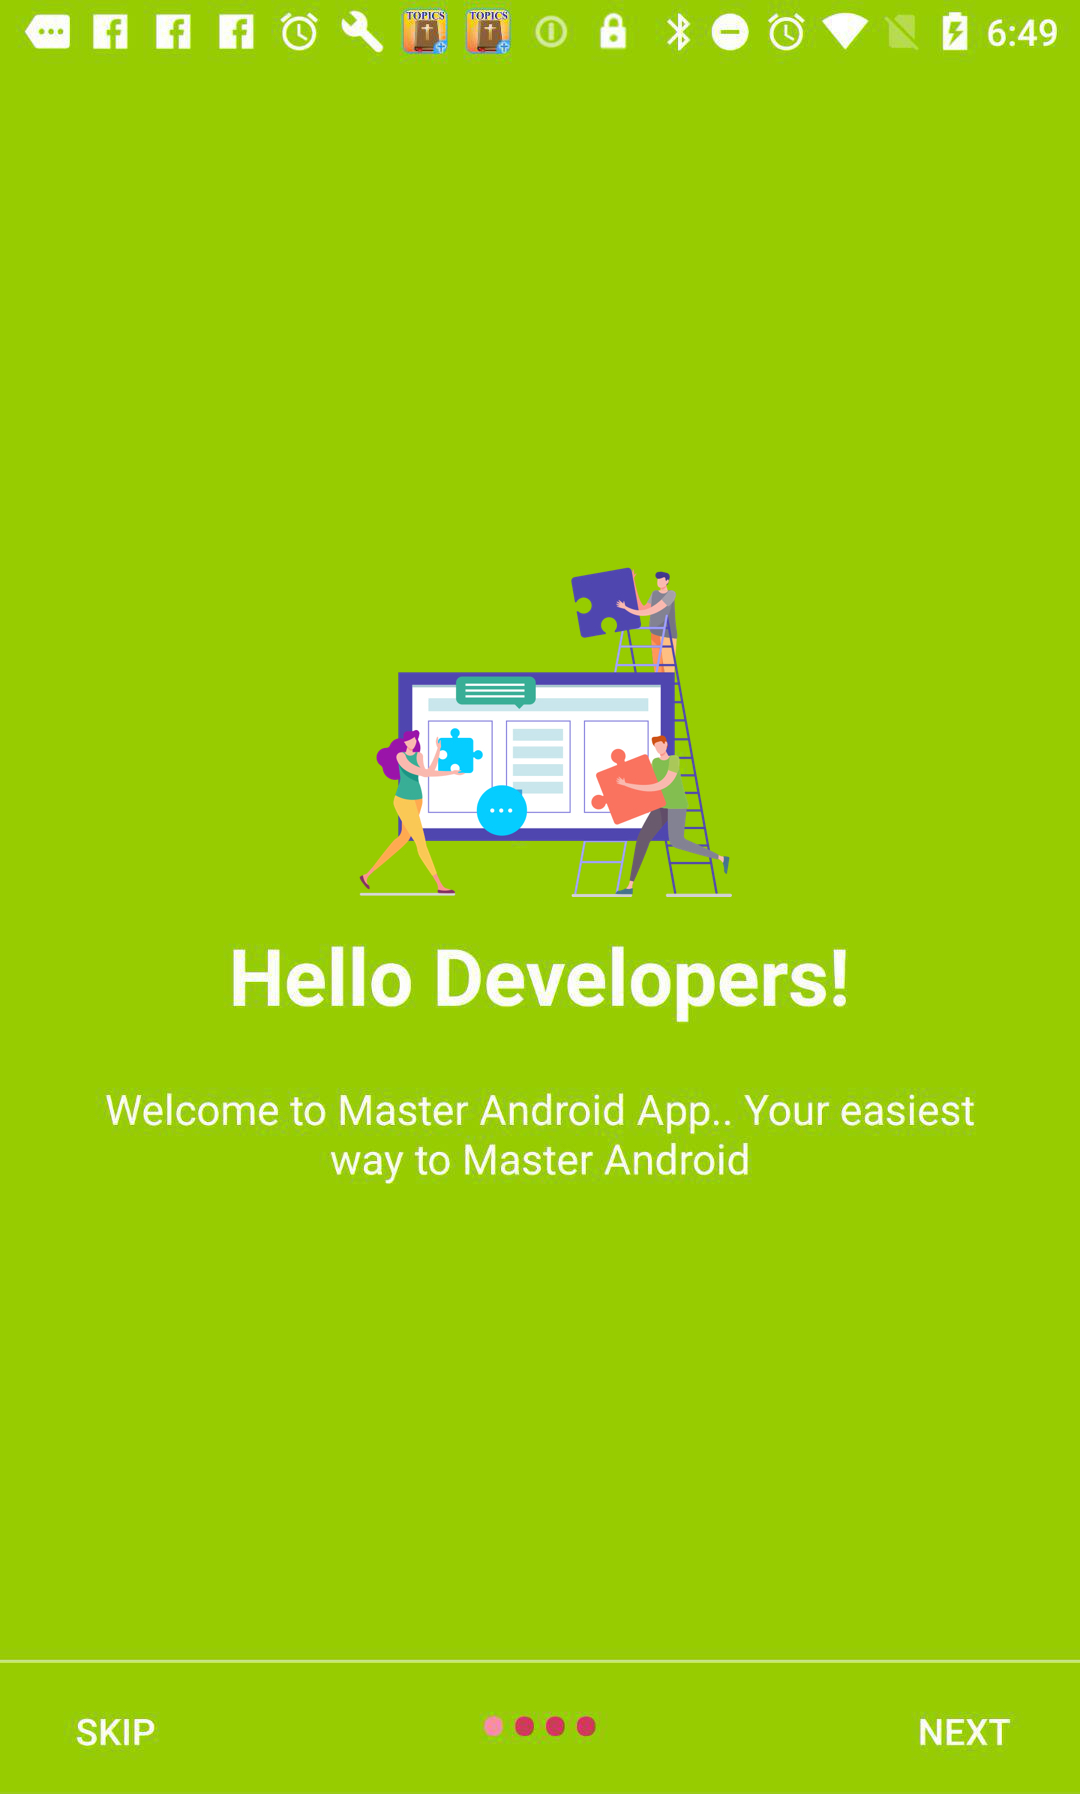Image: (359, 568, 734, 900)
PageIndicator: (483, 1713, 598, 1739)
Text: (105, 1092, 978, 1187), (232, 944, 849, 1025), (919, 1717, 1013, 1748), (76, 1717, 158, 1747)
UpperTaskBar: (1, 1, 1080, 64)
